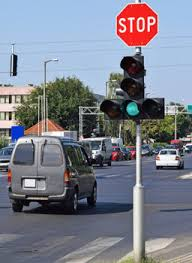stop_sign: (114, 2, 160, 46)
